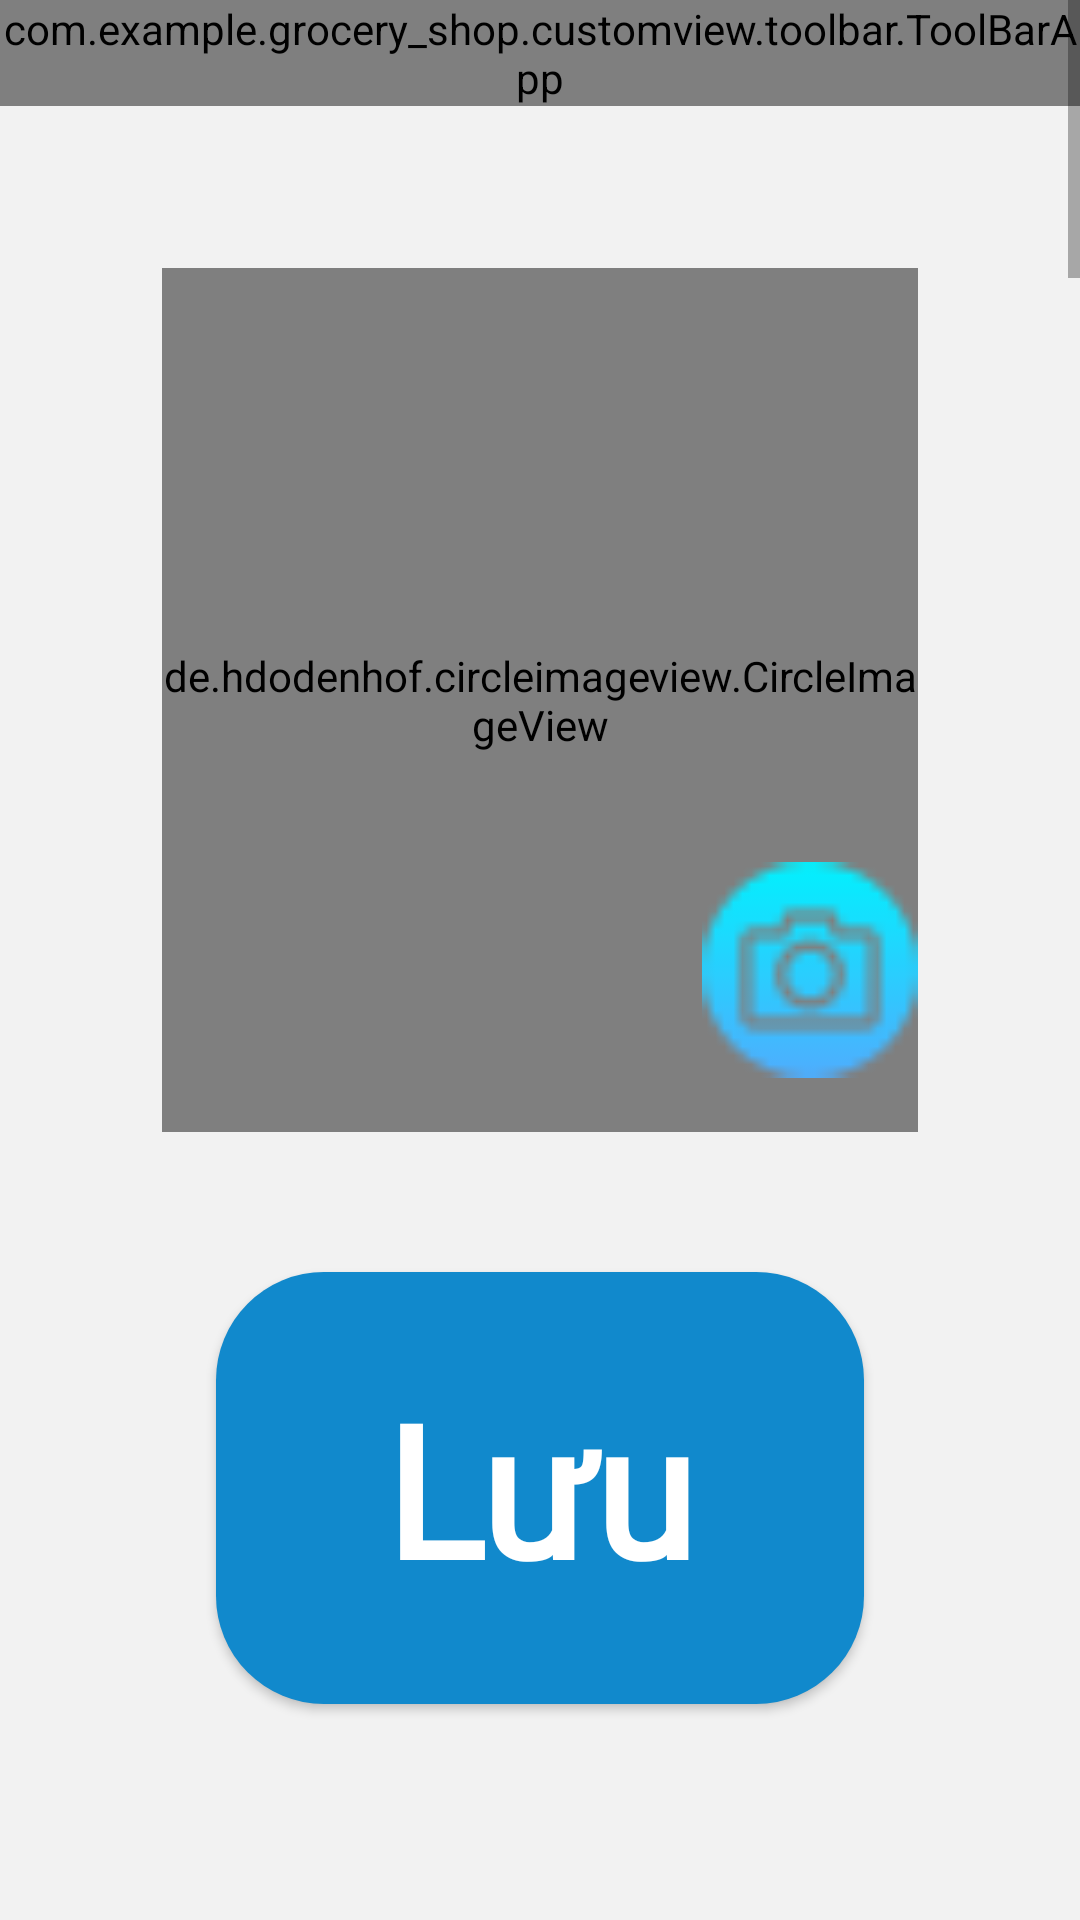

Named icons in this screenshot (1080px×1920px) and their centers, (x=x, y=y):
camera: (x=810, y=970)
